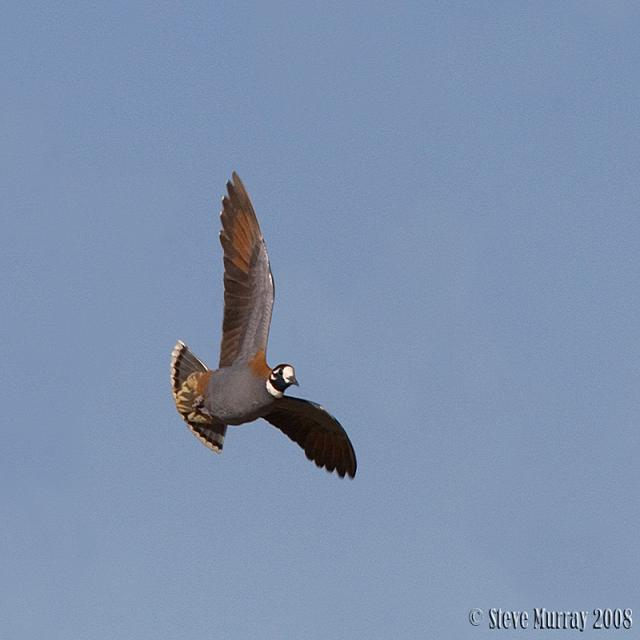bird: (167, 165, 358, 493)
